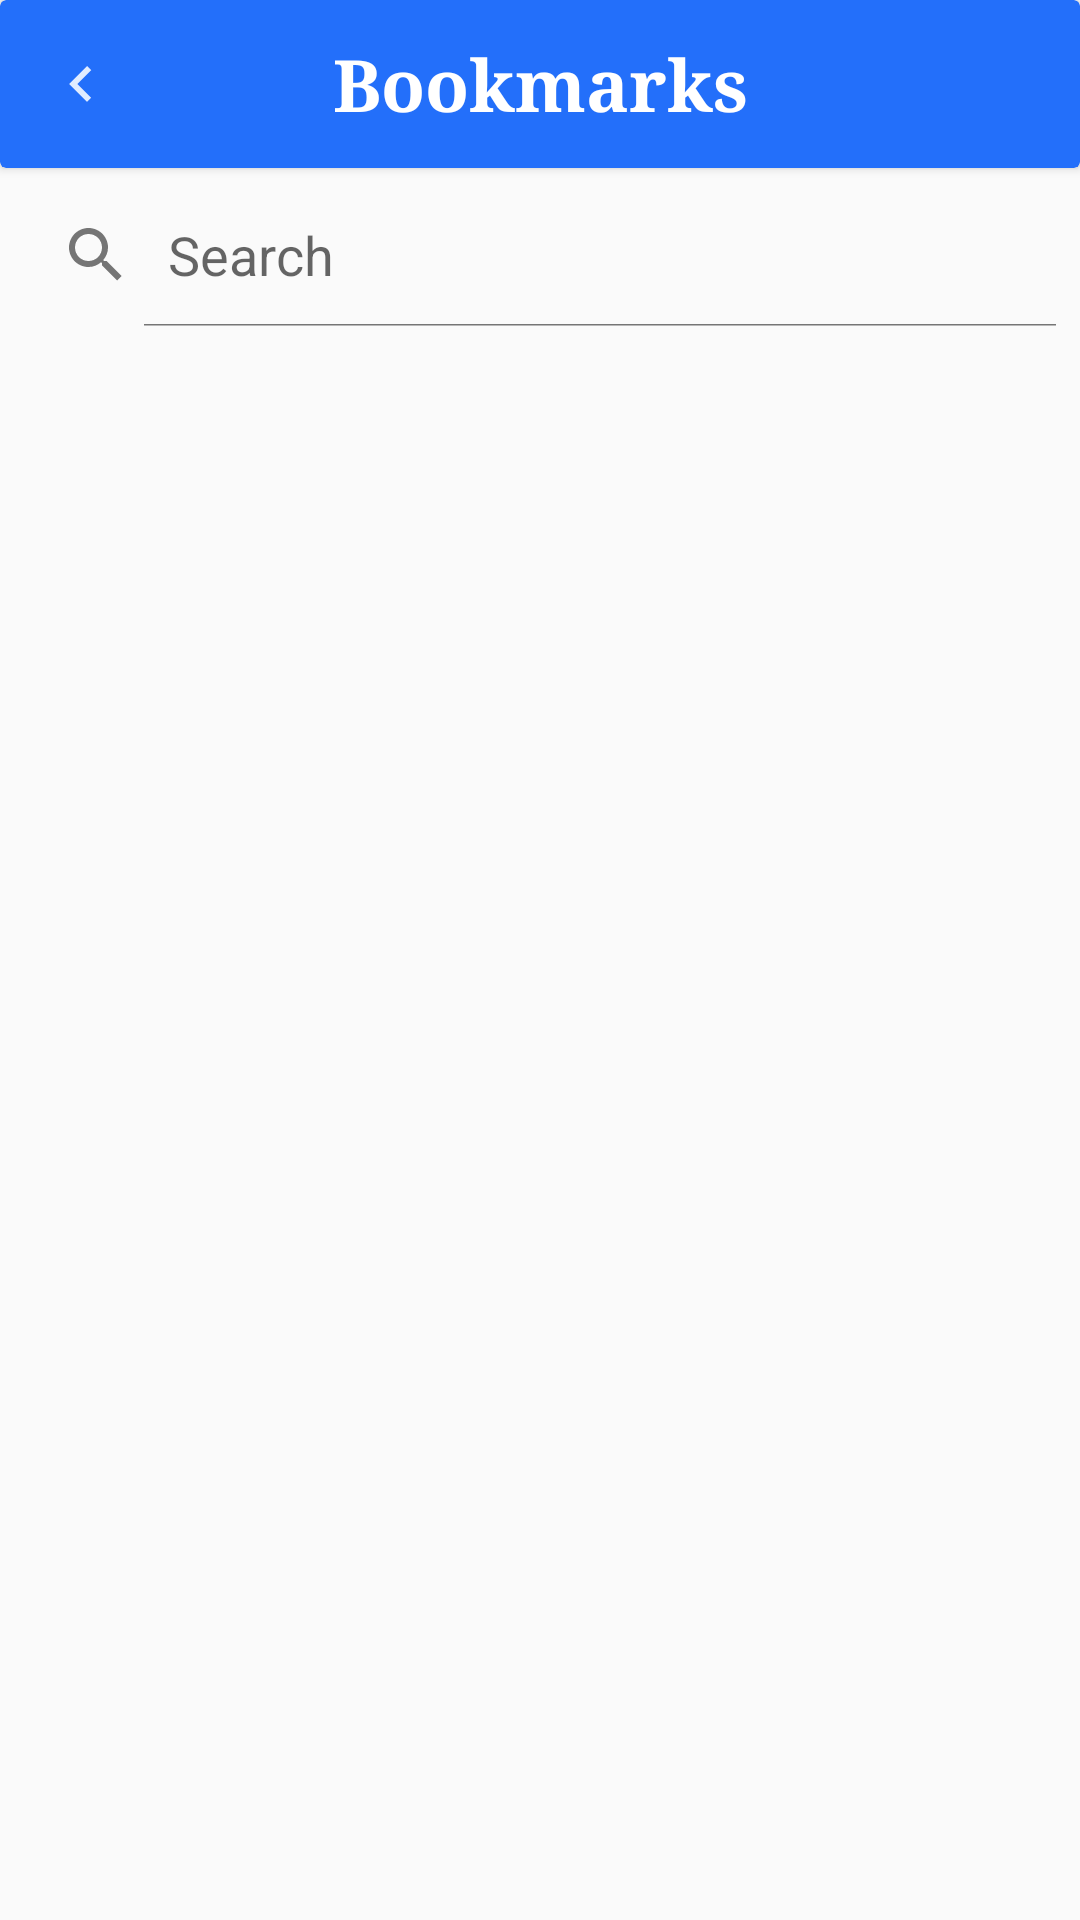

Point at icon controls on the screen. Image size 1080 × 1920, points as point (x, y).
keyboard arrow left: point (80, 84)
